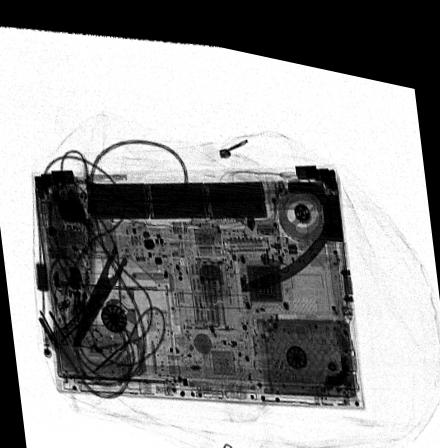Scissors: (69, 200, 166, 346)
